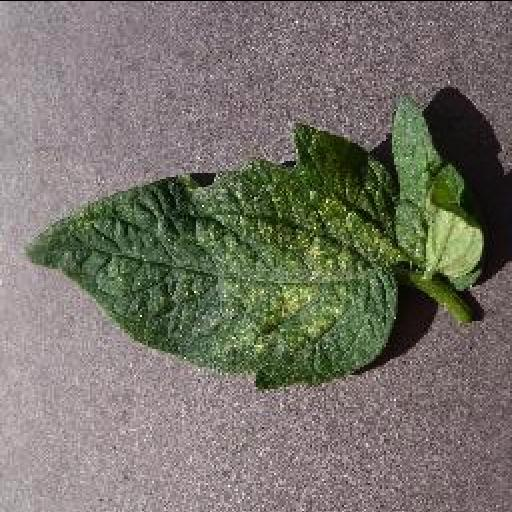disease_tomato: (22, 124, 398, 390)
